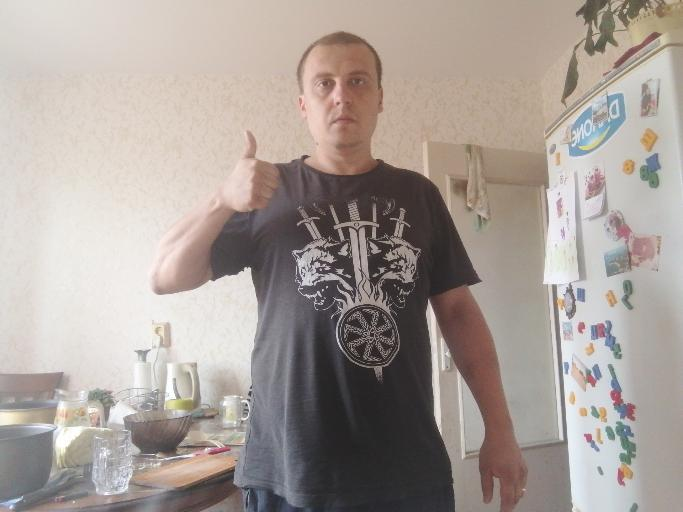like: (219, 128, 282, 215)
no_gesture: (474, 430, 532, 511)
